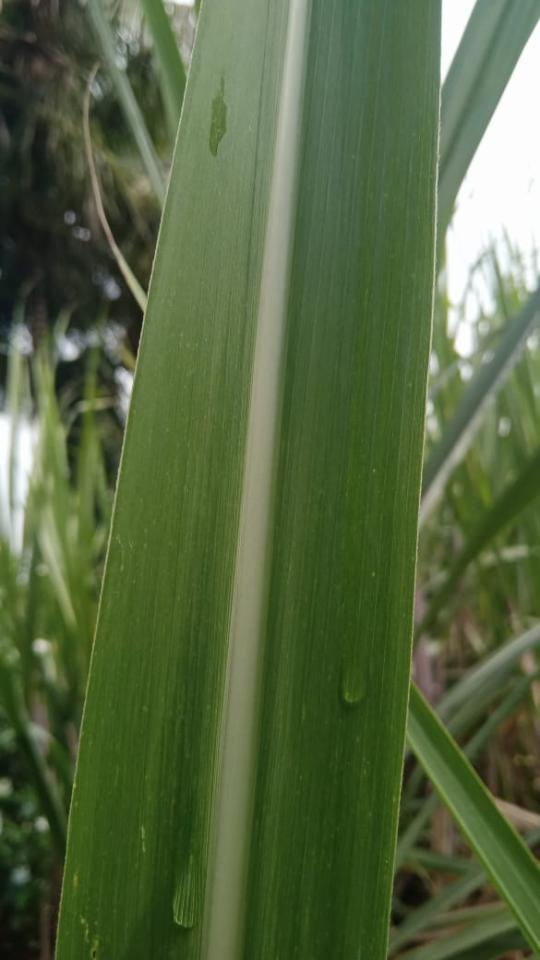Healthy: (55, 0, 440, 959)
